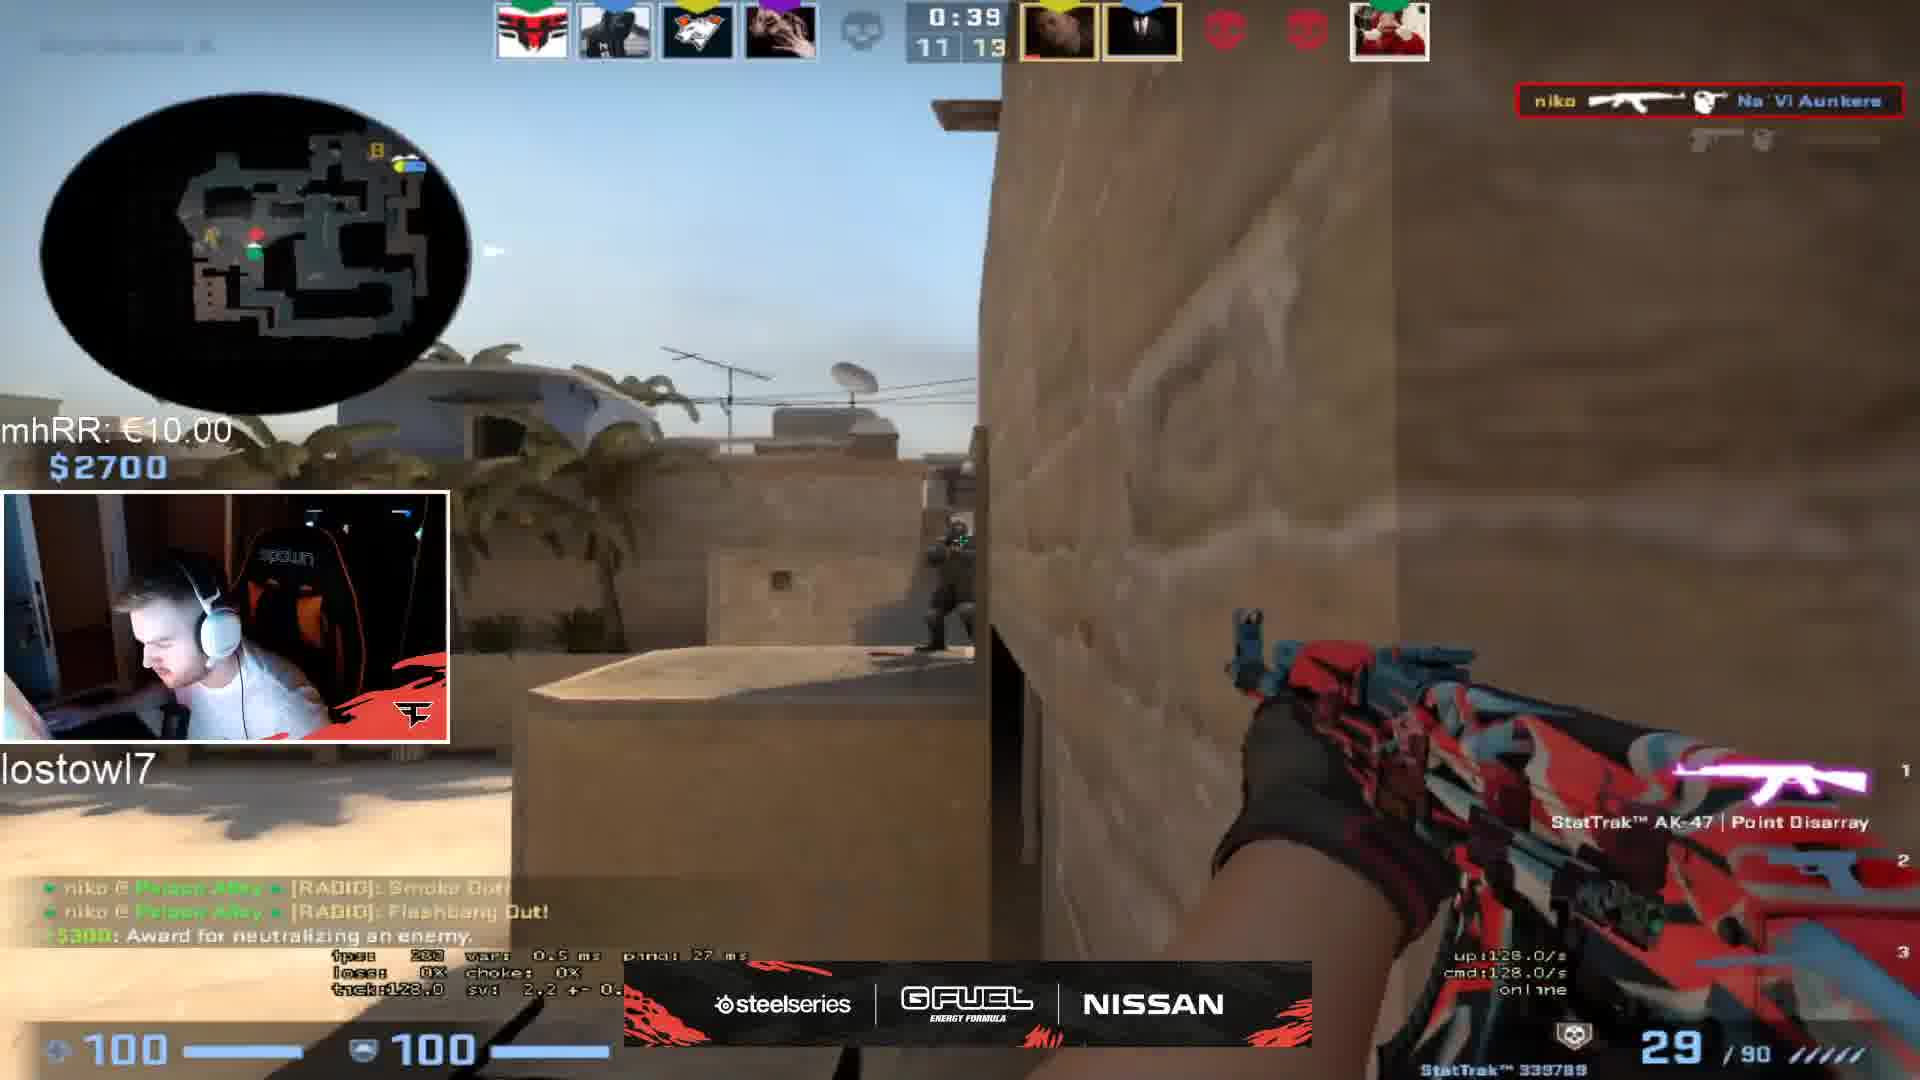enemy: (909, 520, 988, 659)
